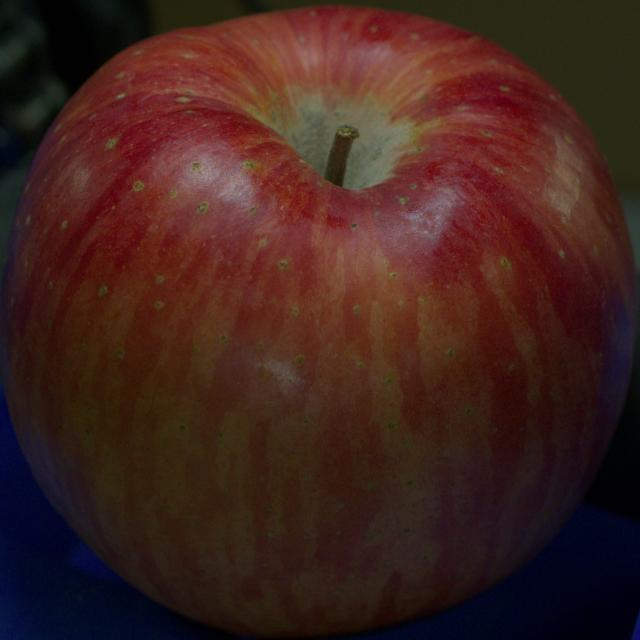apple: (0, 6, 636, 636)
